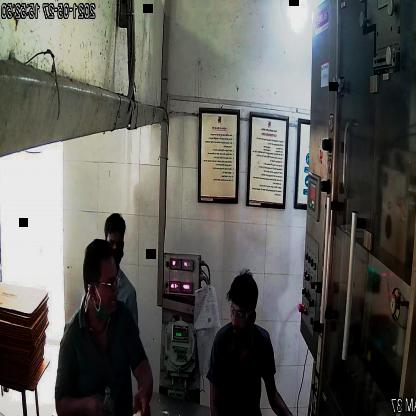goggles: (91, 273, 123, 294), (226, 304, 259, 322)
no_goggles: (107, 237, 128, 252)
